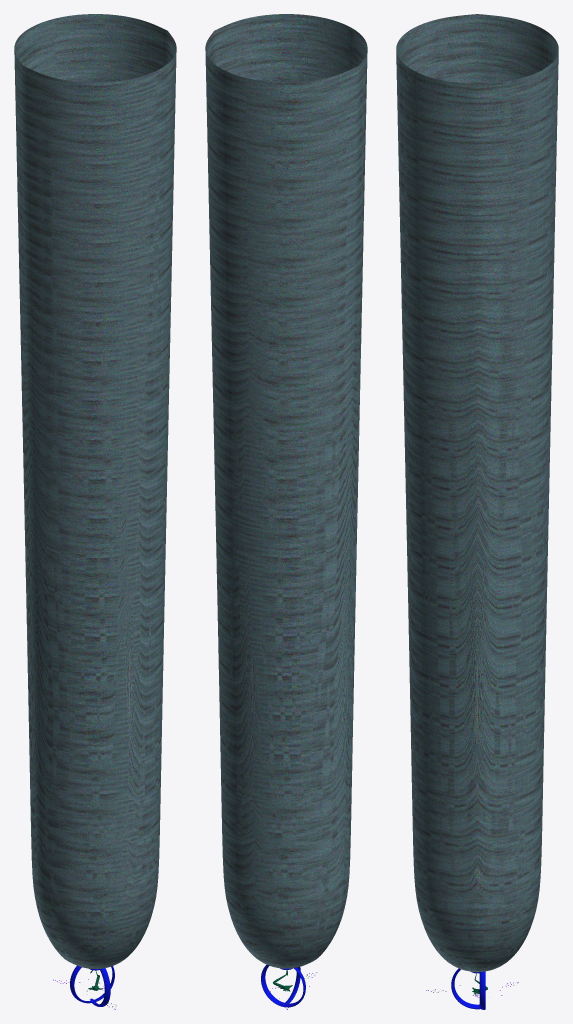
File: Gtynnernnmre_plant.fbx
3 views of the same model, side by side, from view 1: azimuth 30°, elevation 25°; view 2: azimuth 150°, elevation 25°; view 3: azimuth 270°, elevation 25° (orthographic).
Parts seen in each view (by area): view 1: Cube.001; view 2: Cube.001, Circle.001; view 3: Cube.001.
Part boxes in pixels (x1,y1,x2,y2): Cube.001: (14,14,176,968); Cube.001: (205,14,367,968); Circle.001: (261,964,305,1007); Cube.001: (396,14,558,972).
Size of the model in its own units: 5579 by 35375 by 5437.
Materials: 4 (1 with a texture image).
